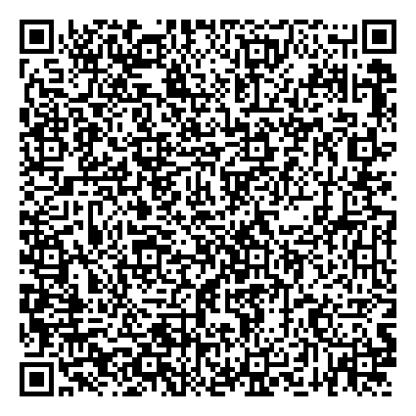qr: (14, 13, 400, 403)
